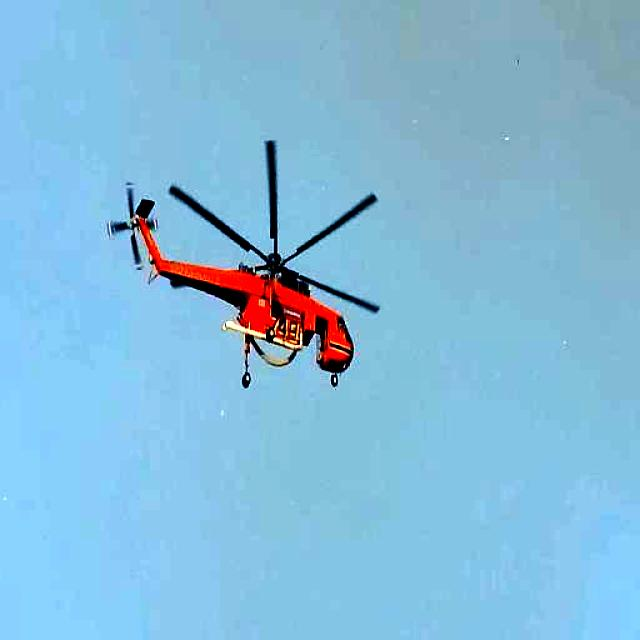drone: (99, 101, 391, 395)
